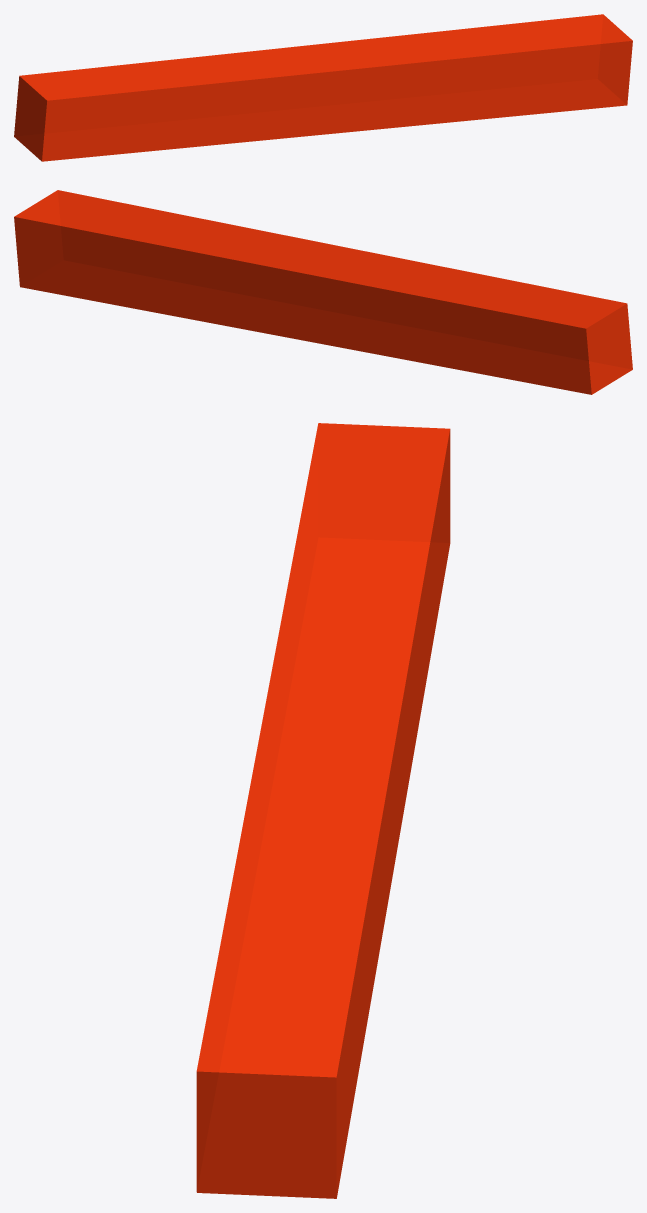
File: Event_420094457_EErechit_65.fbx
3 views of the same model, one above another, from view 1: azimuth 30°, elevation 25°; view 2: azimuth 150°, elevation 25°; view 3: azimuth 270°, elevation 25° (orthographic). The views are drawn at different scales.
Visible parts, largest first — view 1: Model; view 2: Model; view 3: Model.
Part boxes in pixels (x1,y1,x2,y2): Model: [14, 14, 632, 161]; Model: [14, 190, 632, 394]; Model: [196, 423, 450, 1198].
Bounding box in the file's own units: 0.7163 × 0.1416 × 0.1391.
